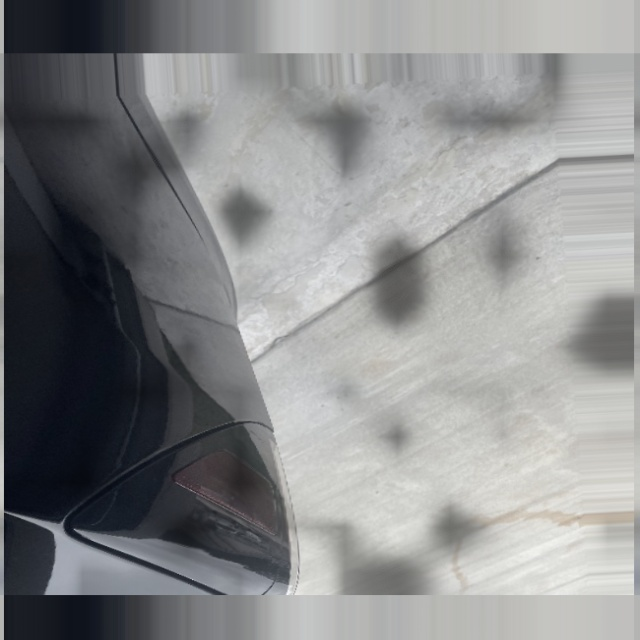reflector: (170, 446, 279, 540)
